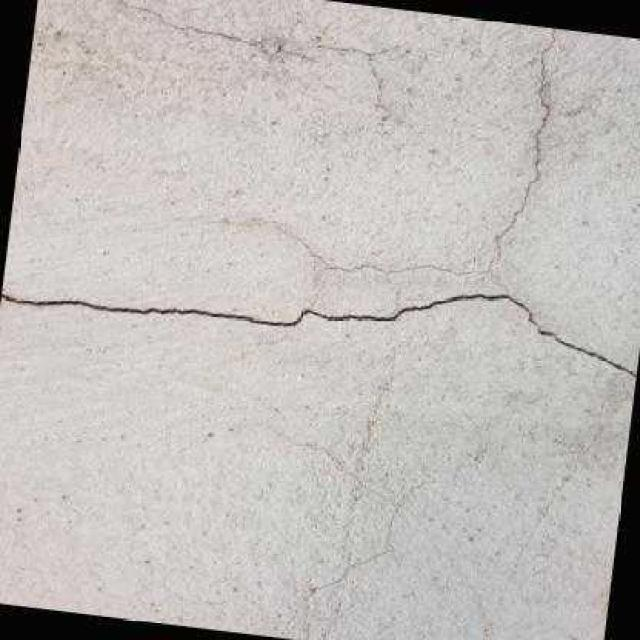D00: (0, 288, 636, 375)
